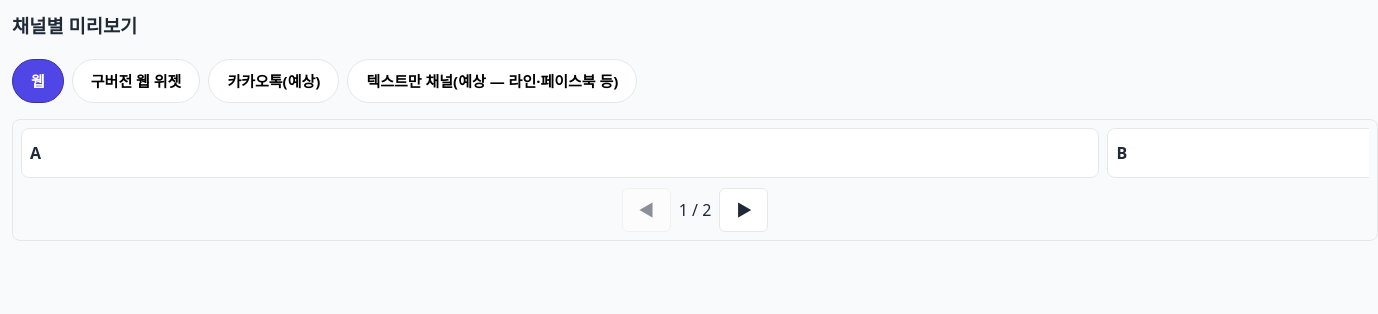
ChannelPreviewSection — RM-3(§3.3) › 텍스트만 채널(예상) 탭은 캐러셀을 텍스트로 강등하고 이미지 제거를 안내한다
The width and height of the screenshot is (1378, 314).
Click the tab "텍스트만 채널(예상 — 라인·페이스북 등)" at [492, 80], box [347,58,637,102]
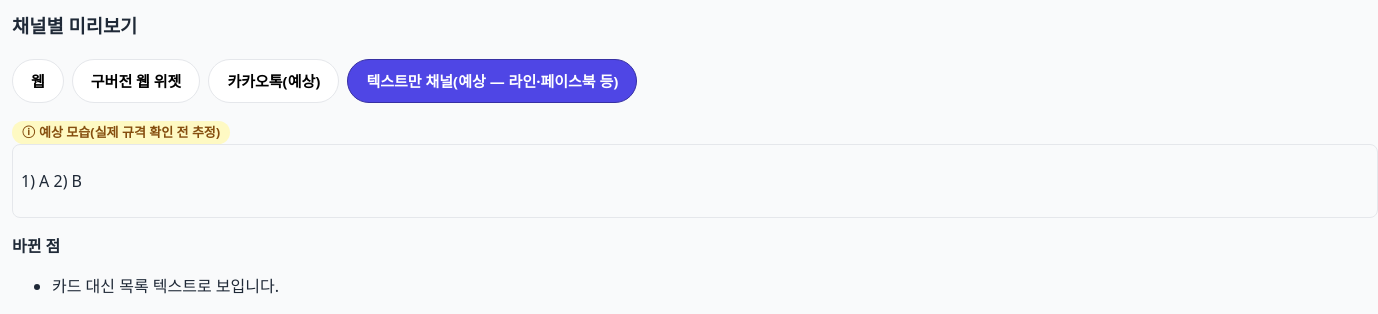
Expected: the text "예상 모습(실제 규격 확인 전 추정)" is shown, [39,122,220,140]
Expected: the list item "카드 대신 목록 텍스트로 보입니다." is shown, [52,275,279,297]
